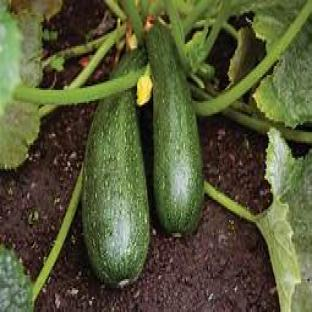Zucchini: (82, 90, 149, 286), (147, 24, 204, 234)
